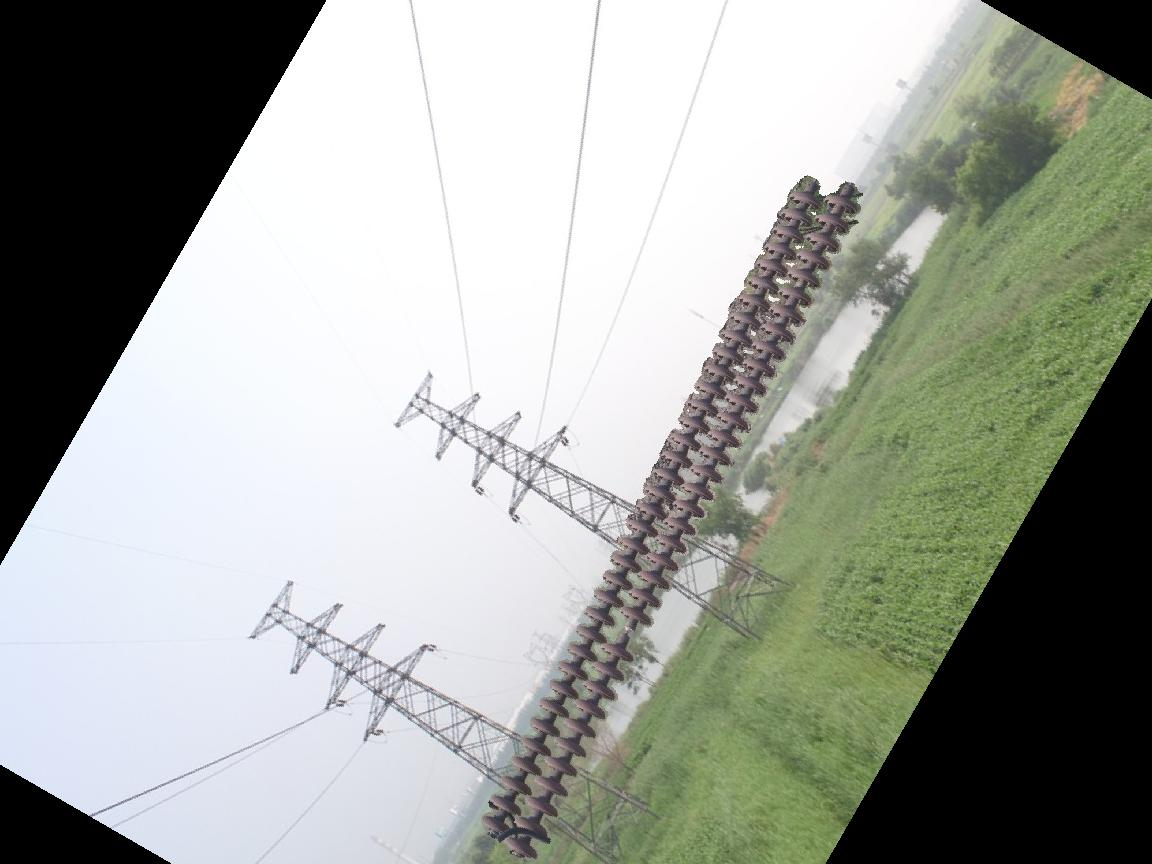insulator: (477, 174, 871, 861)
insulator_stringdrop: (599, 604, 657, 664)
